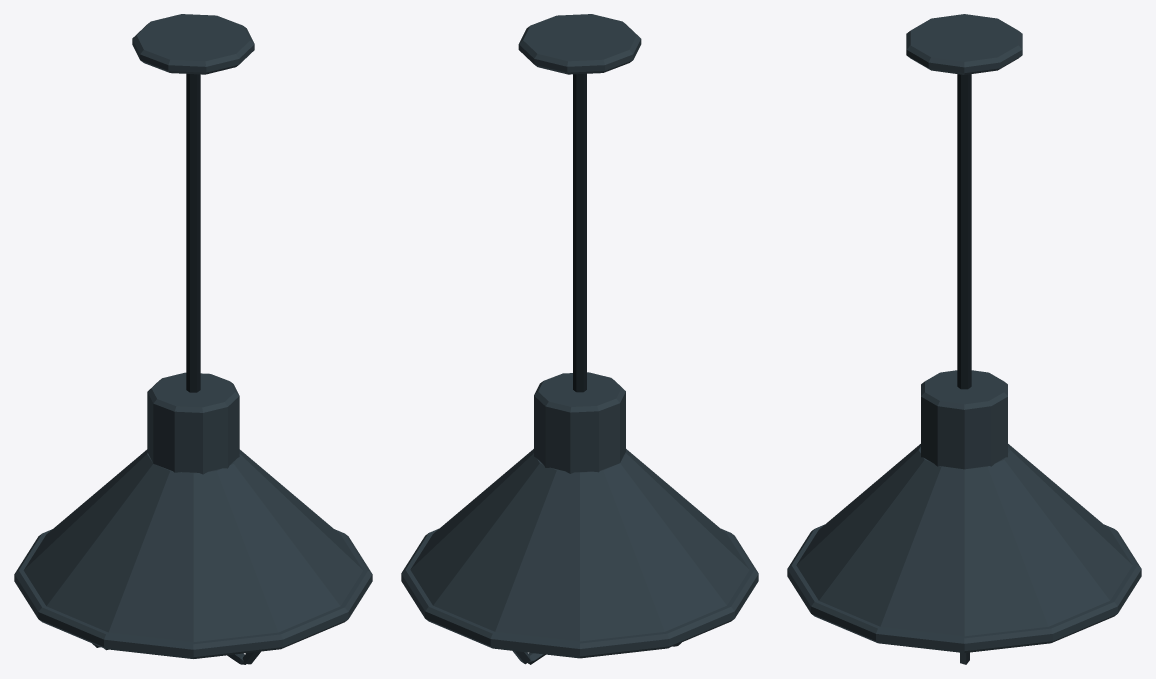
Rendered from b18_industrial_pendant_light.glb.
3 views of the same model, side by side, from view 1: azimuth 30°, elevation 25°; view 2: azimuth 150°, elevation 25°; view 3: azimuth 270°, elevation 25° (orthographic).
Parts seen in each view (by area): view 1: b18_industrial_pendant_light; view 2: b18_industrial_pendant_light; view 3: b18_industrial_pendant_light.
Boxes of the visible parts, x1,y1,x2,y2 form: b18_industrial_pendant_light: [14, 14, 372, 664]; b18_industrial_pendant_light: [401, 14, 758, 664]; b18_industrial_pendant_light: [787, 14, 1141, 664].
Bounding box in the file's own units: 0.61 × 1.12 × 0.61.
